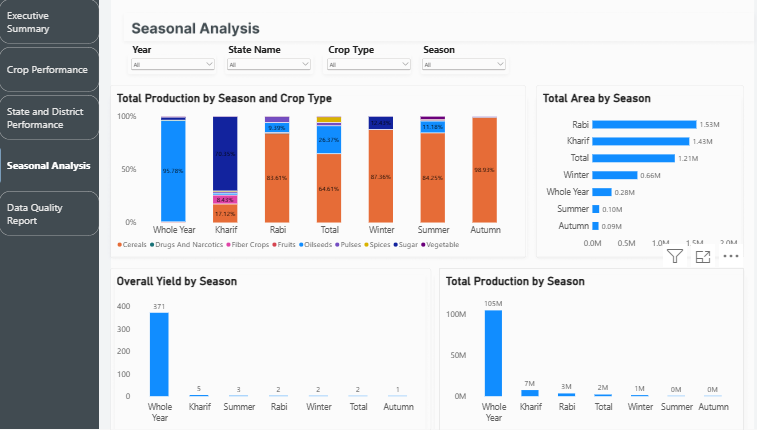

Layout of this report page (visuals, bound fields, positions):
{"tool":"powerbi","page":{"name":"Seasonal Analysis","canvas":[1920,1080],"ordinal":3},"visuals":[{"type":"barChart","fields":{"Category":["agriculture_cleaned_data.Season"],"Y":["agriculture_cleaned_data.Total Area"]},"box":[1342.5,215,520,432.5],"z":0},{"type":"columnChart","fields":{"Category":["agriculture_cleaned_data.Season"],"Y":["agriculture_cleaned_data.Total Production"]},"box":[1100,672.5,762.5,407.5],"z":1000},{"type":"columnChart","fields":{"Category":["agriculture_cleaned_data.Season"],"Y":["agriculture_cleaned_data.Overall Yield"]},"box":[277.5,672.5,802.5,407.5],"z":2000},{"type":"hundredPercentStackedColumnChart","fields":{"Category":["agriculture_cleaned_data.Season"],"Series":["agriculture_cleaned_data.Crop Type"],"Y":["agriculture_cleaned_data.Total Production"]},"box":[277.5,215,1040,432.5],"z":3000},{"type":"slicer","fields":{"Values":["agriculture_cleaned_data.Year"]},"box":[325.6,109.3,218.6,93],"z":4000},{"type":"slicer","fields":{"Values":["agriculture_cleaned_data.State Name"]},"box":[565.1,109.3,218.6,93],"z":5000},{"type":"slicer","fields":{"Values":["agriculture_cleaned_data.Crop Type"]},"box":[814,109.3,218.6,93],"z":6000},{"type":"slicer","fields":{"Values":["agriculture_cleaned_data.Season"]},"box":[1053.5,109.3,218.6,93],"z":7000},{"type":"pageNavigator","box":[0,0,251.2,595.3],"z":8000}]}

Visuals, with their boxes on the page's 1920x1080 design canvas (x1, y1, x2, y2). These are canvas units, not pixel positions in the 757x430 screenshot, which may show the page scaled, cropped or inside an application window:
barChart - agriculture_cleaned_data.Season x agriculture_cleaned_data.Total Area: BBox(1342, 215, 1862, 648)
columnChart - agriculture_cleaned_data.Season x agriculture_cleaned_data.Total Production: BBox(1100, 672, 1862, 1080)
columnChart - agriculture_cleaned_data.Season x agriculture_cleaned_data.Overall Yield: BBox(278, 672, 1080, 1080)
hundredPercentStackedColumnChart - agriculture_cleaned_data.Season x agriculture_cleaned_data.Crop Type: BBox(278, 215, 1318, 648)
slicer - agriculture_cleaned_data.Year: BBox(326, 109, 544, 202)
slicer - agriculture_cleaned_data.State Name: BBox(565, 109, 784, 202)
slicer - agriculture_cleaned_data.Crop Type: BBox(814, 109, 1033, 202)
slicer - agriculture_cleaned_data.Season: BBox(1054, 109, 1272, 202)
pageNavigator: BBox(0, 0, 251, 595)
